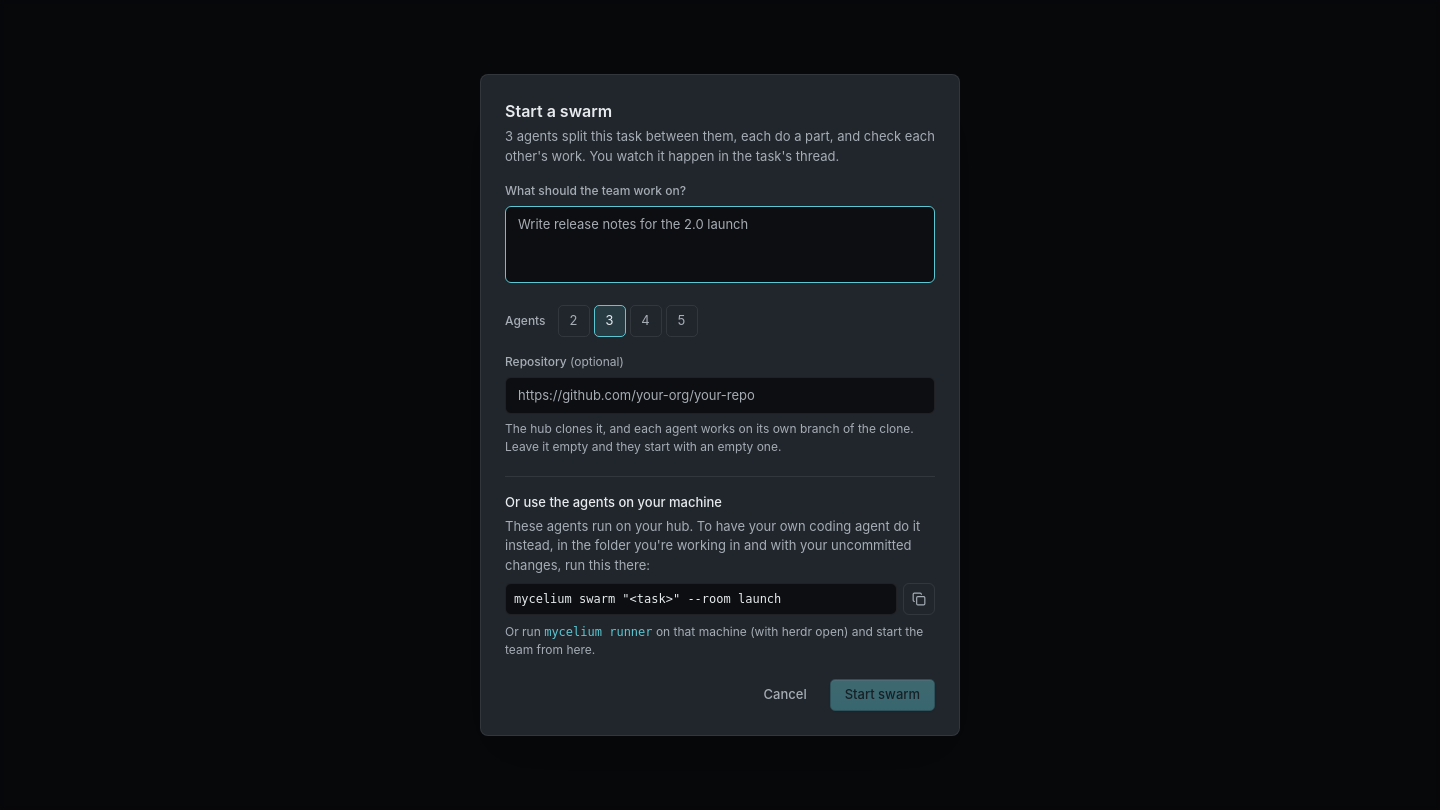
Test case: StartSwarmDialog › says why when the hub refuses
The width and height of the screenshot is (1440, 810).
In the text box labelled "What should the team work on?": (720, 244) [505, 206, 935, 282], type "Anything"
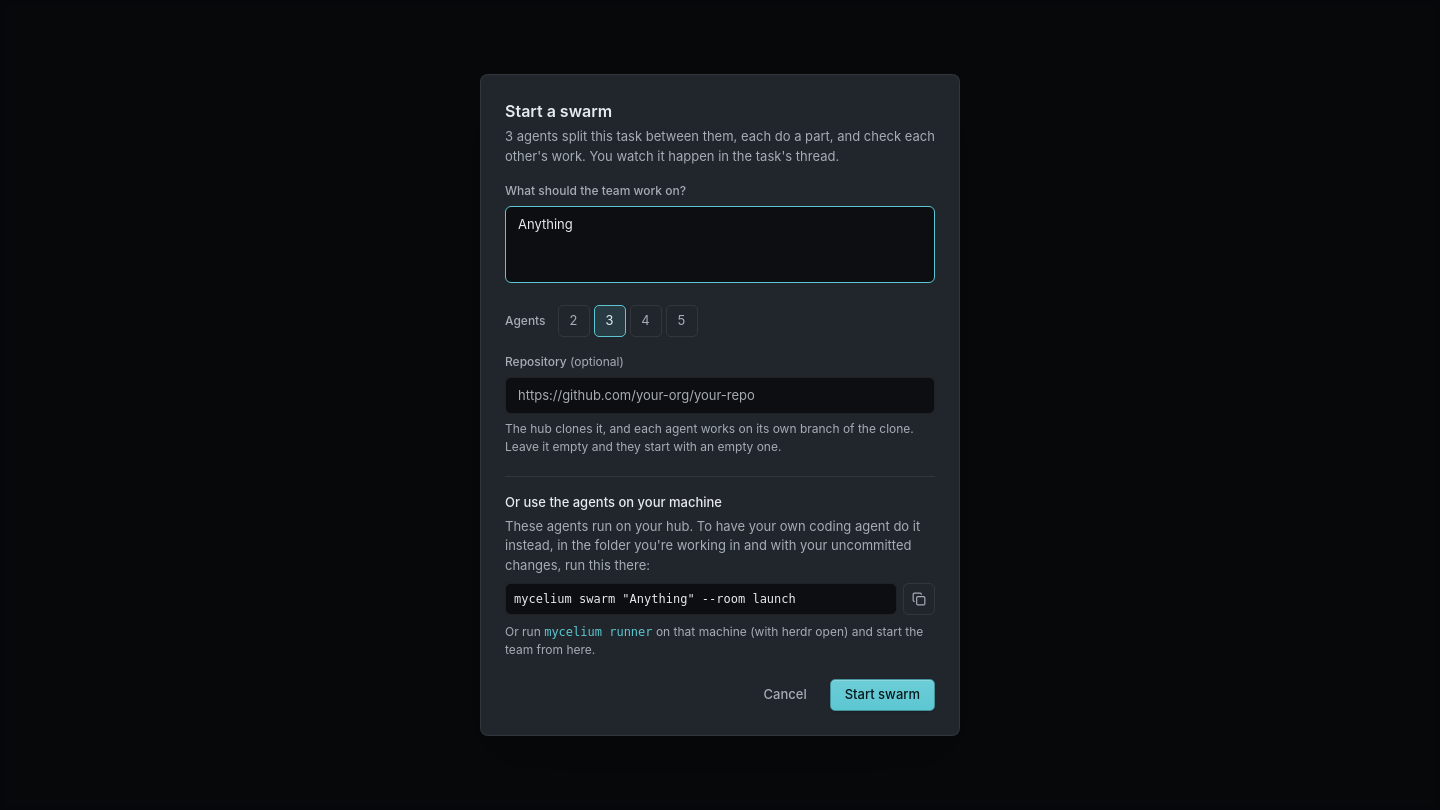
Click the button "Start swarm": (882, 695) [830, 679, 935, 711]
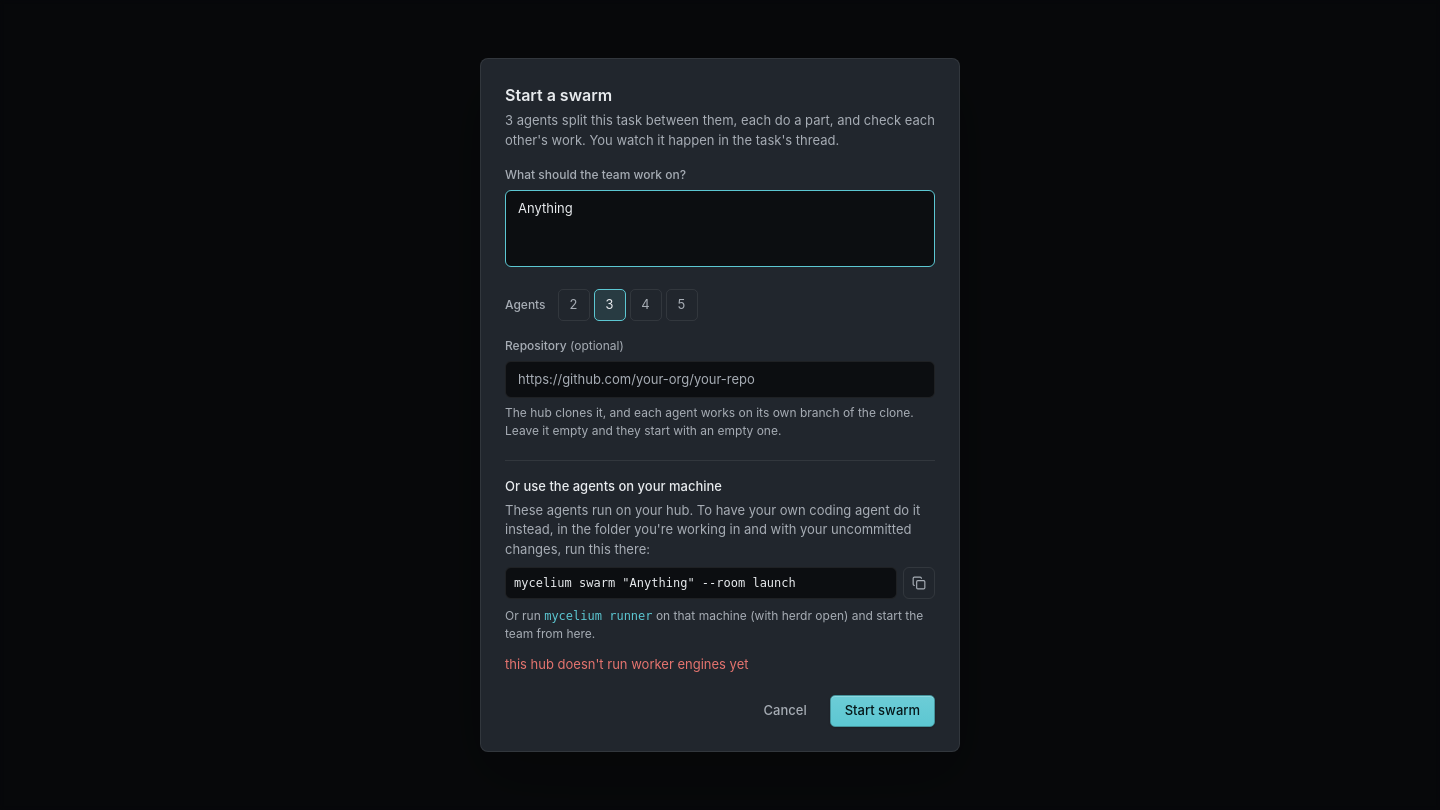
Check: the message shows "doesn't run worker engines", box [505, 656, 748, 672]
